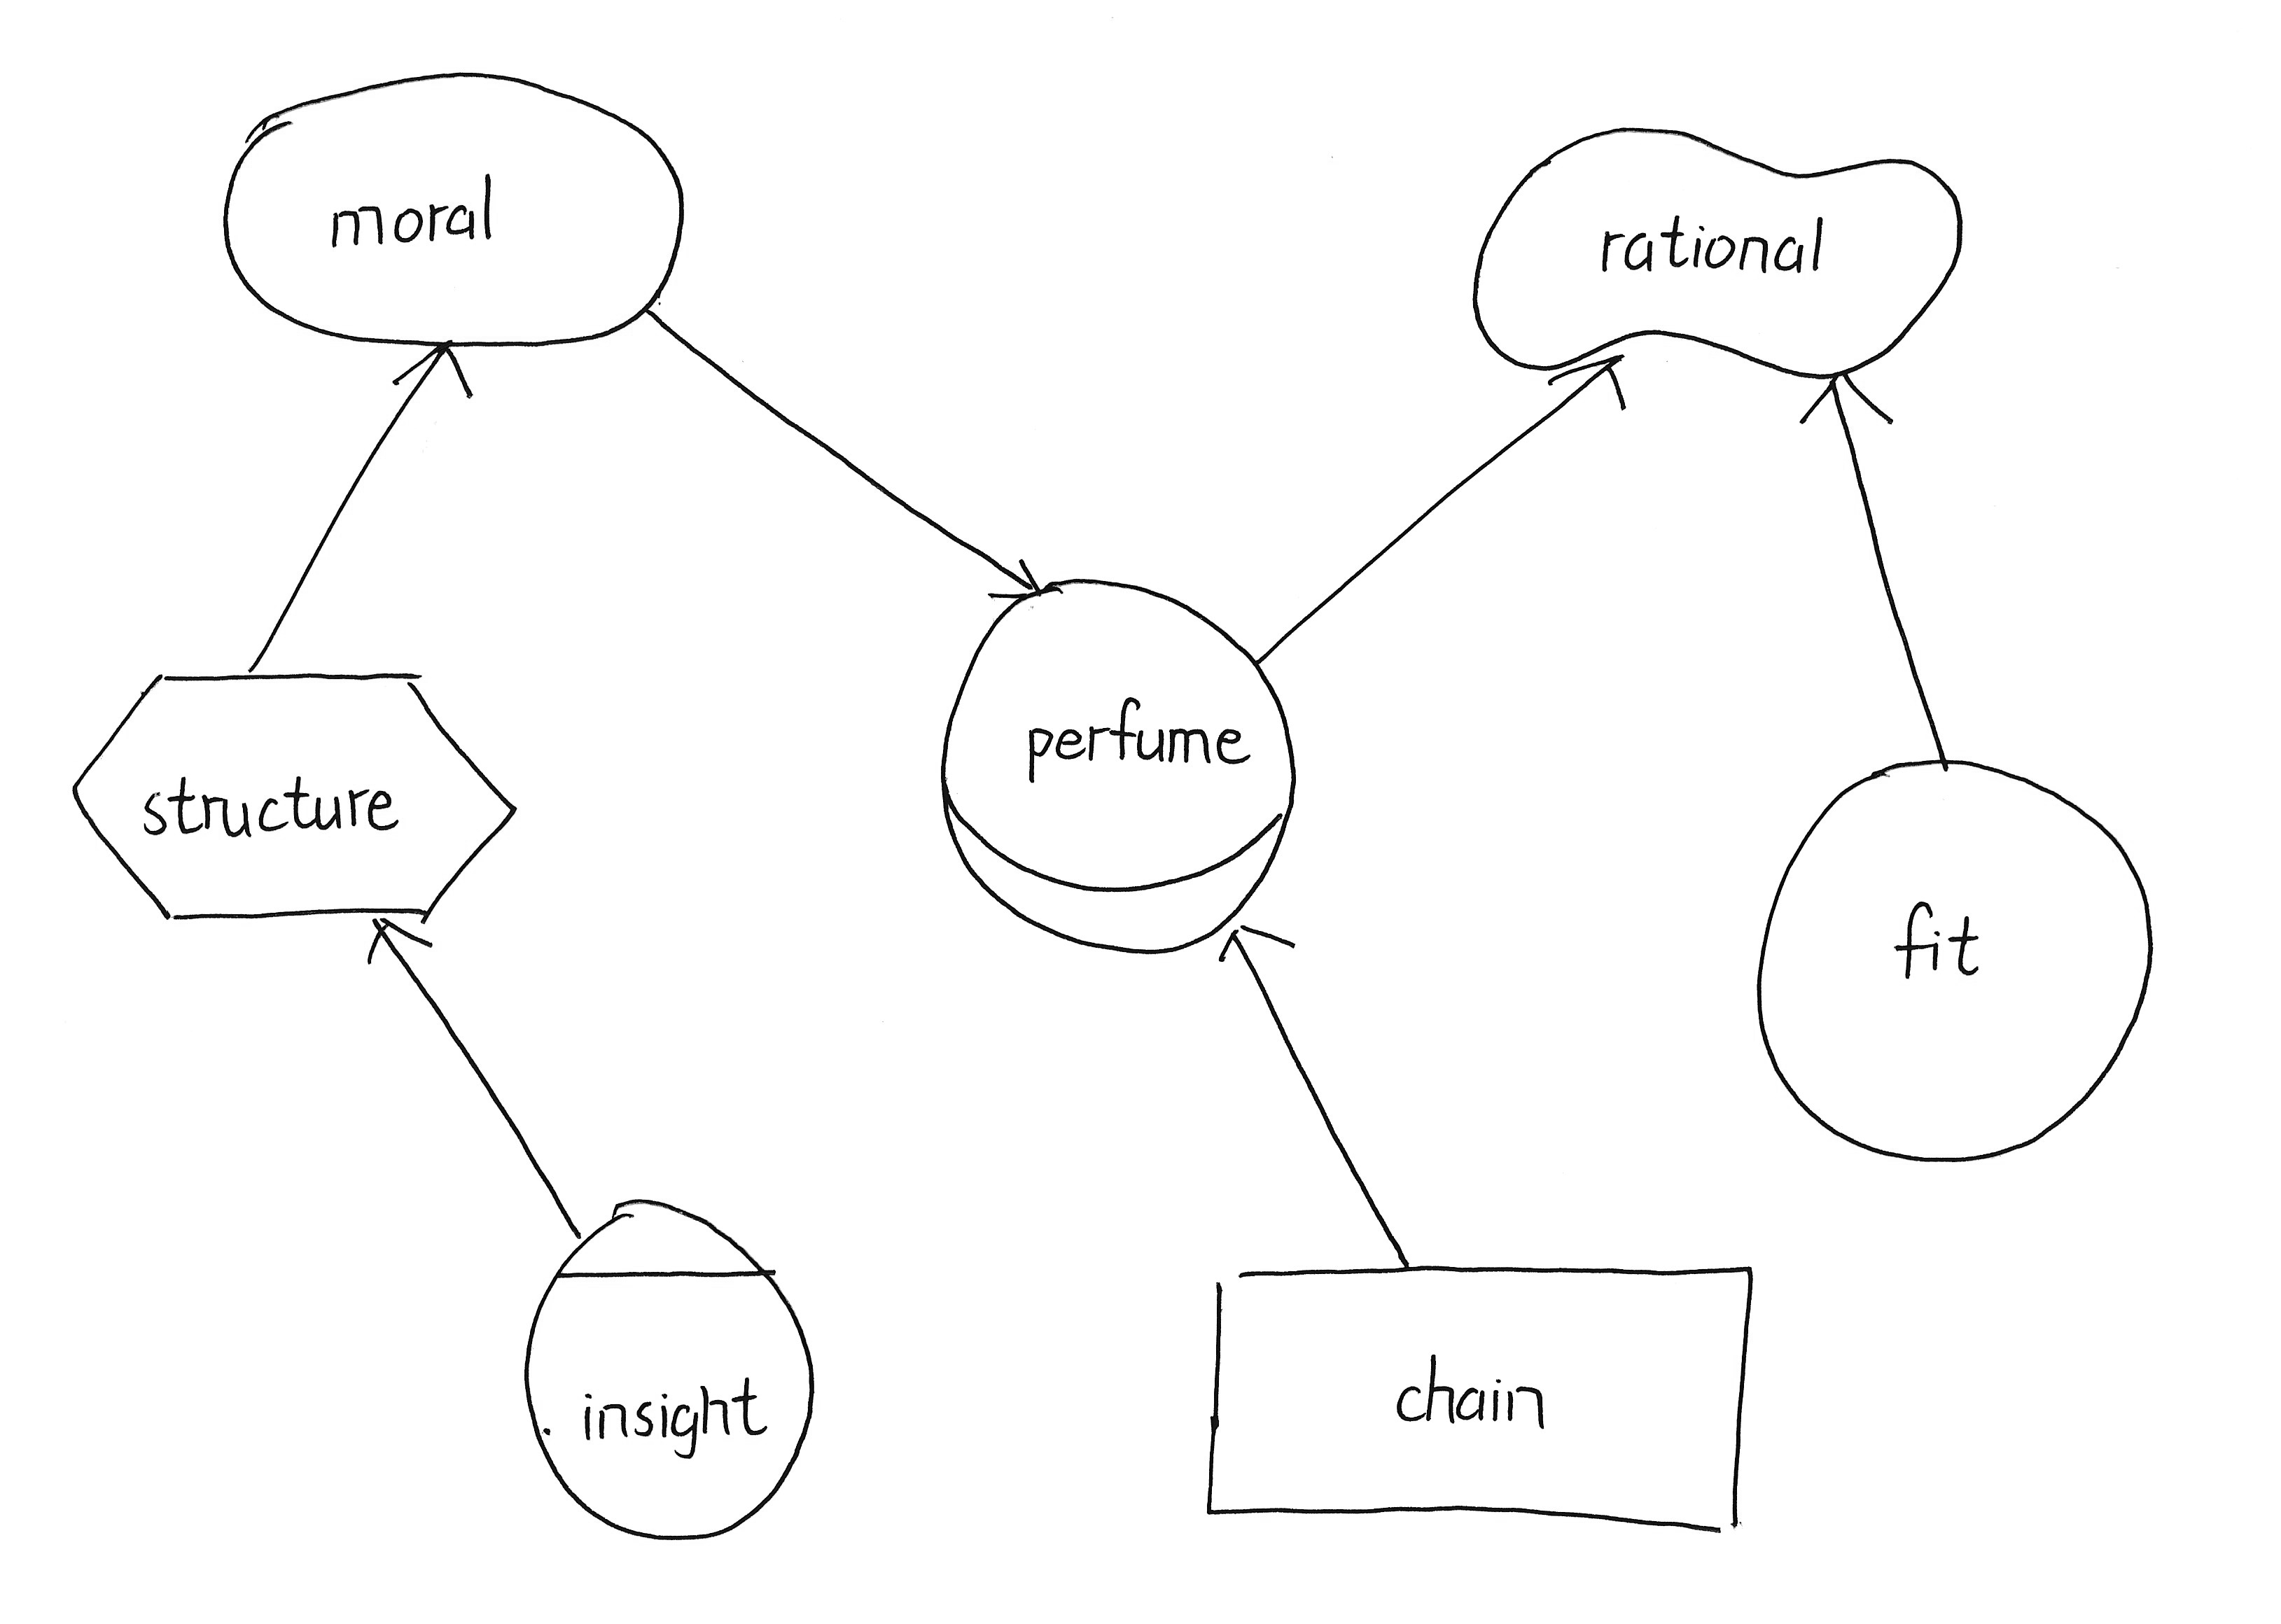actor: (1738, 743, 2181, 1181)
agent: (1167, 1236, 1792, 1562), (496, 1179, 840, 1562)
arrow: (1791, 364, 1901, 446), (374, 330, 483, 410), (1534, 346, 1640, 425), (337, 902, 446, 974), (956, 533, 1060, 608), (1202, 909, 1306, 974)
goal: (207, 47, 703, 366)
quality: (1453, 104, 1988, 395)
role: (923, 564, 1311, 972)
task: (58, 659, 531, 937)
